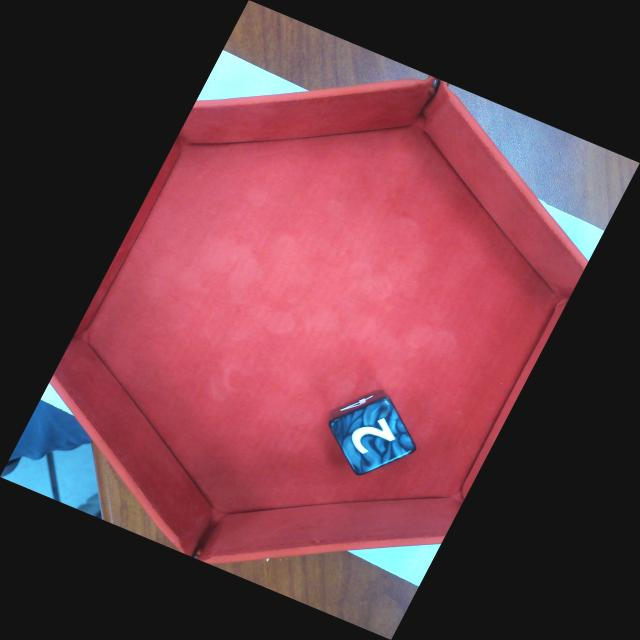dice: (330, 397, 416, 474)
